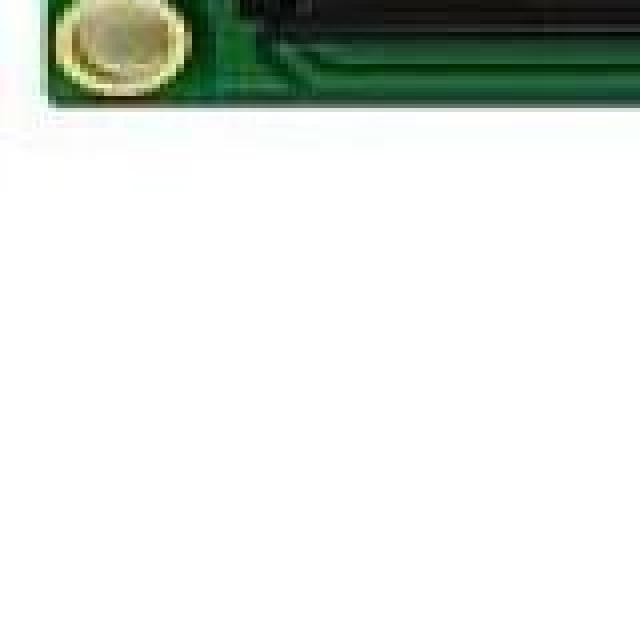display: (264, 0, 640, 16)
